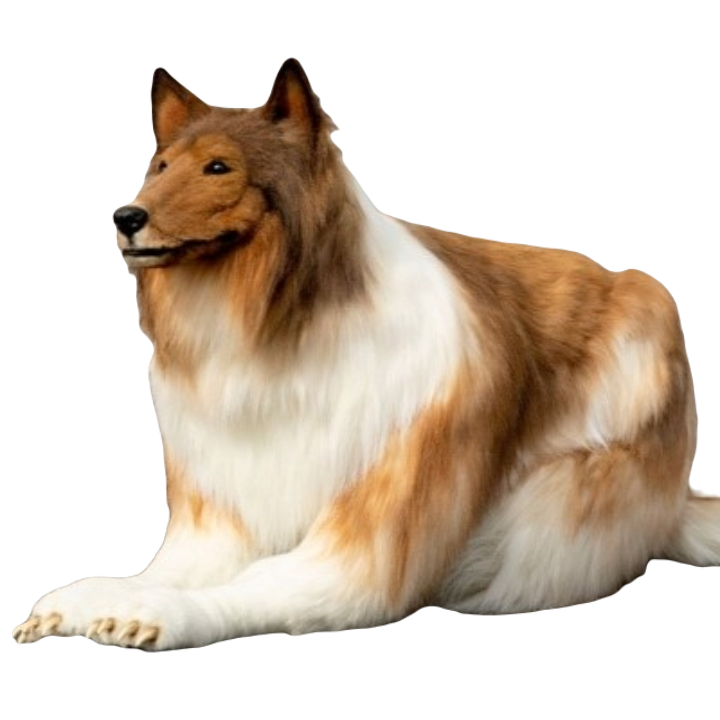Dog: (13, 57, 719, 650)
